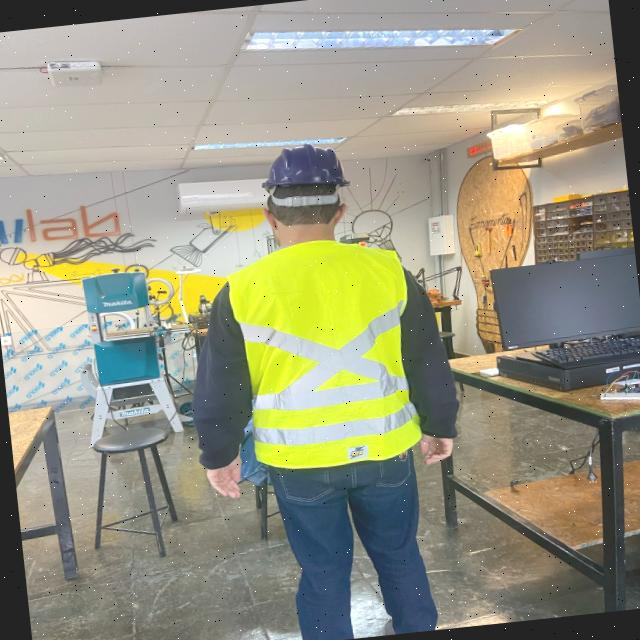CAPACETE: (260, 143, 349, 211)
COLETE: (226, 240, 440, 469)
SEM LUVA: (183, 453, 243, 500), (412, 416, 462, 463)
